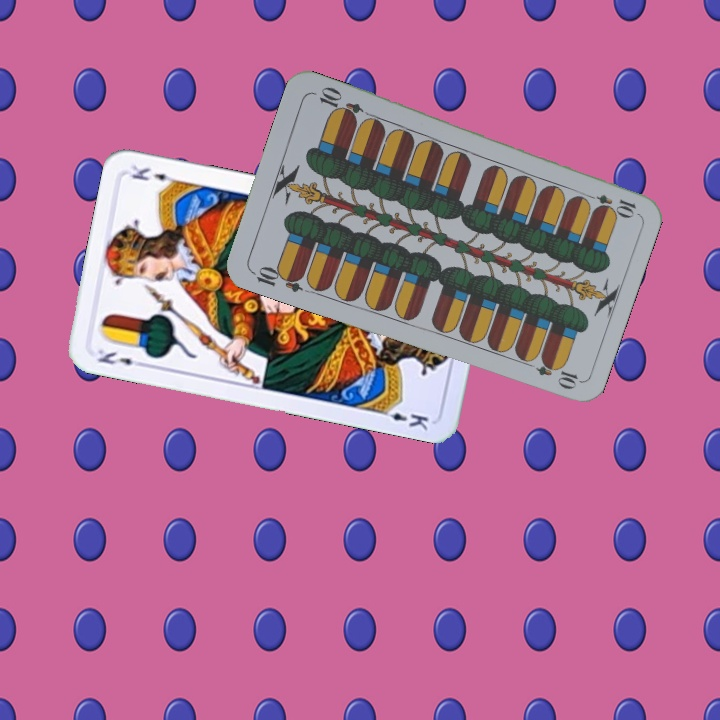E10: (247, 262, 306, 295), (580, 189, 639, 218)
EK: (93, 345, 149, 370)
